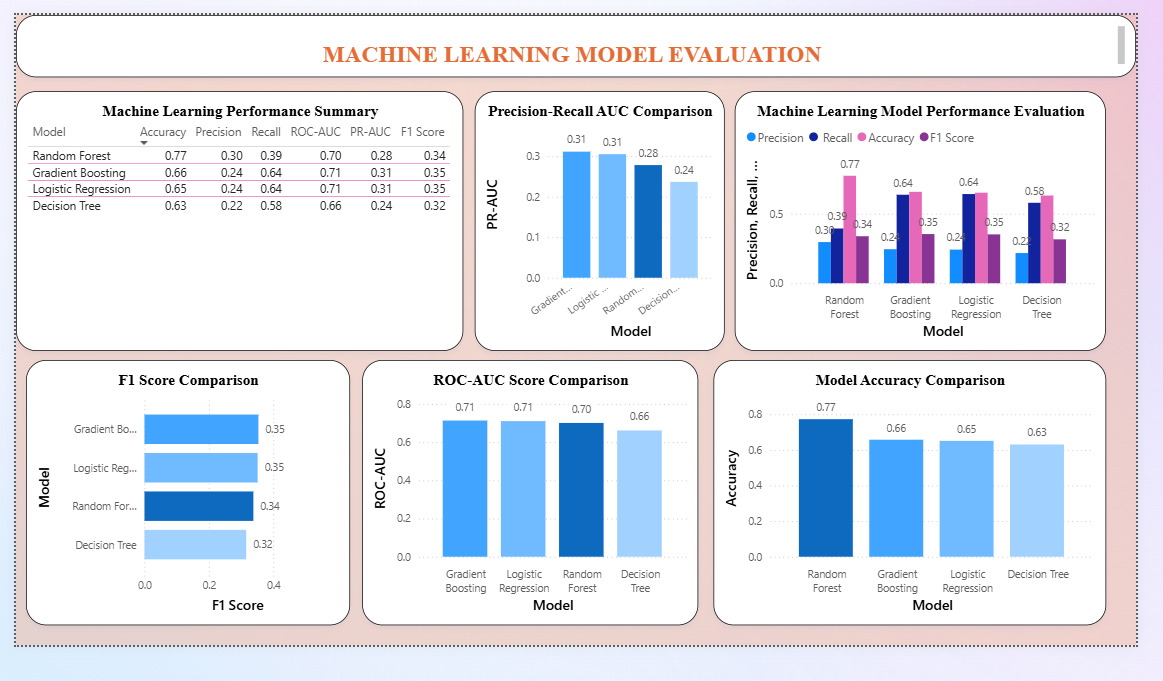

The dashboard page shown, as its layout file describes it:
{"tool":"powerbi","page":{"name":"Model Evalution","canvas":[1280,720],"ordinal":2},"visuals":[{"type":"tableEx","title":"Machine Learning Performance Summary","fields":{"Values":["final_model_comparison.Model","final_model_comparison.Accuracy","final_model_comparison.Precision","final_model_comparison.Recall","final_model_comparison.ROC-AUC","final_model_comparison.PR-AUC","final_model_comparison.F1 Score"]},"box":[0,87.1,511.4,297.1],"z":0},{"type":"lineStackedColumnComboChart","title":"ROC-AUC Score Comparison","fields":{"Category":["final_model_comparison.Model"],"Y":["Sum(final_model_comparison.ROC-AUC)"]},"box":[395.7,394.3,384.3,302.9],"z":1000},{"type":"textbox","box":[0,0,1280,71.4],"z":2000},{"type":"clusteredColumnChart","title":"Model Accuracy Comparison","fields":{"Category":["final_model_comparison.Model"],"Y":["Sum(final_model_comparison.Accuracy)"]},"box":[797.1,394.3,448.6,302.9],"z":3000},{"type":"clusteredColumnChart","title":"Machine Learning Model Performance Evaluation","fields":{"Category":["final_model_comparison.Model"],"Y":["Sum(final_model_comparison.Precision)","Sum(final_model_comparison.Recall)","Sum(final_model_comparison.Accuracy)","Sum(final_model_comparison.F1 Score)"]},"box":[821.4,87.1,424.3,297.1],"z":4000},{"type":"clusteredBarChart","title":"F1 Score Comparison","fields":{"Y":["Sum(final_model_comparison.F1 Score)"],"Category":["final_model_comparison.Model"]},"box":[11.4,394.3,370,302.9],"z":5000},{"type":"clusteredColumnChart","title":"Precision-Recall AUC Comparison","fields":{"Category":["final_model_comparison.Model"],"Y":["Sum(final_model_comparison.PR-AUC)"]},"box":[524.3,87.1,285.7,297.1],"z":6000}]}

Visuals, with their boxes on the page's 1280x720 design canvas (x1, y1, x2, y2). These are canvas units, not pixel positions in the 1163x681 screenshot, which may show the page scaled, cropped or inside an application window:
"Machine Learning Performance Summary" tableEx: (left=0, top=87, right=511, bottom=384)
"ROC-AUC Score Comparison" lineStackedColumnComboChart: (left=396, top=394, right=780, bottom=697)
textbox: (left=0, top=0, right=1280, bottom=71)
"Model Accuracy Comparison" clusteredColumnChart: (left=797, top=394, right=1246, bottom=697)
"Machine Learning Model Performance Evaluation" clusteredColumnChart: (left=821, top=87, right=1246, bottom=384)
"F1 Score Comparison" clusteredBarChart: (left=11, top=394, right=381, bottom=697)
"Precision-Recall AUC Comparison" clusteredColumnChart: (left=524, top=87, right=810, bottom=384)
